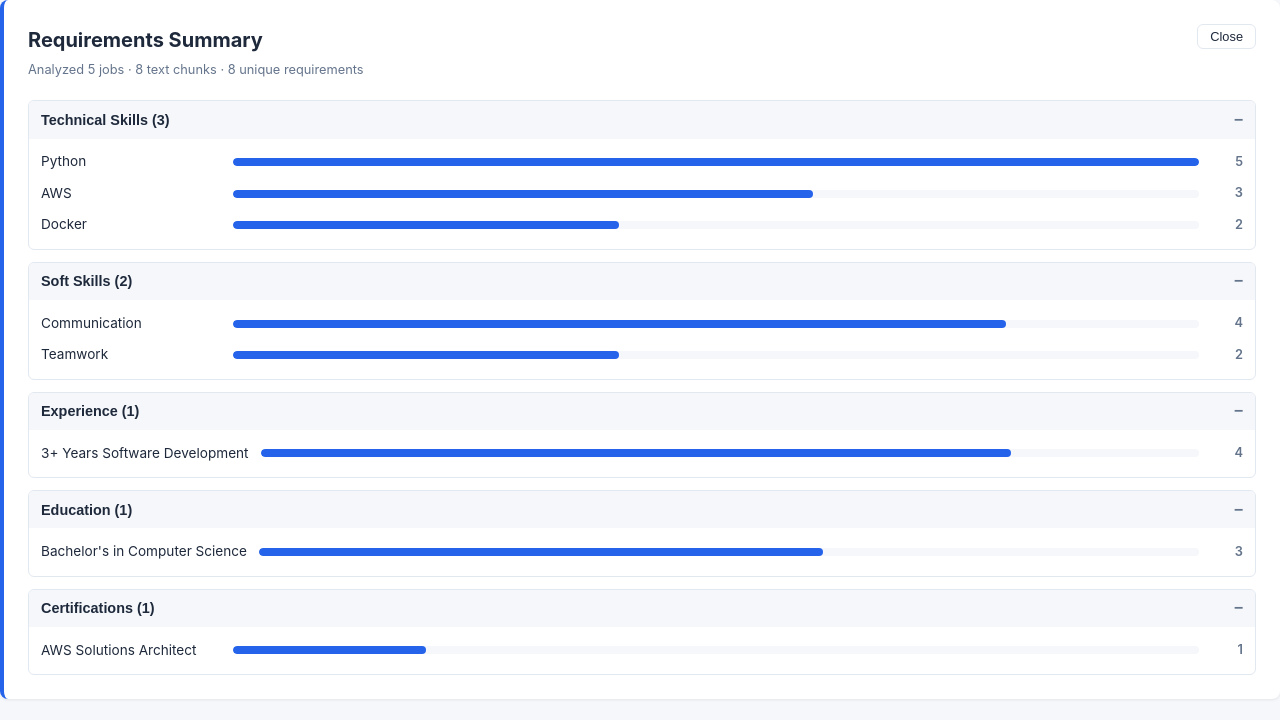
Test case: SummaryView › collapses category when header is clicked
Check: the text "Python" is shown, box [41,154,86,170]
Note: Click Technical Skills header to collapse
Click the text "Technical Skills (3)": (105, 120) [41,112,170,128]
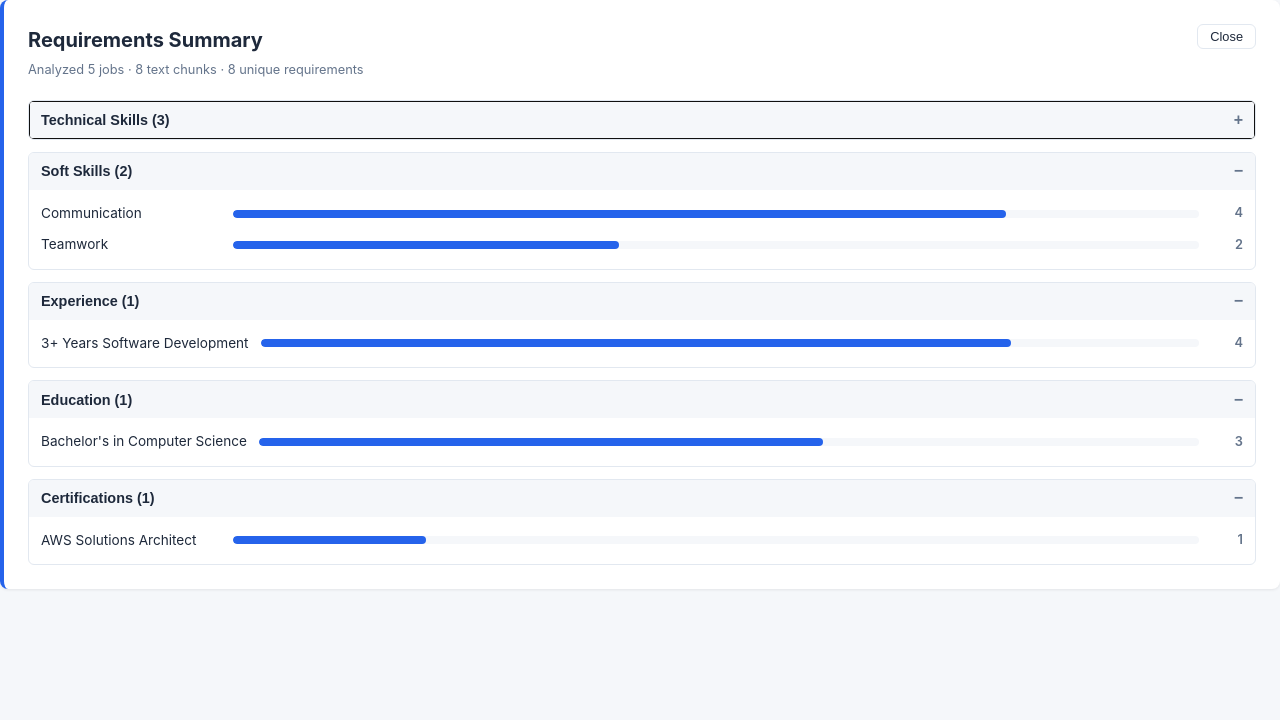
Check: the text "Python" is gone
